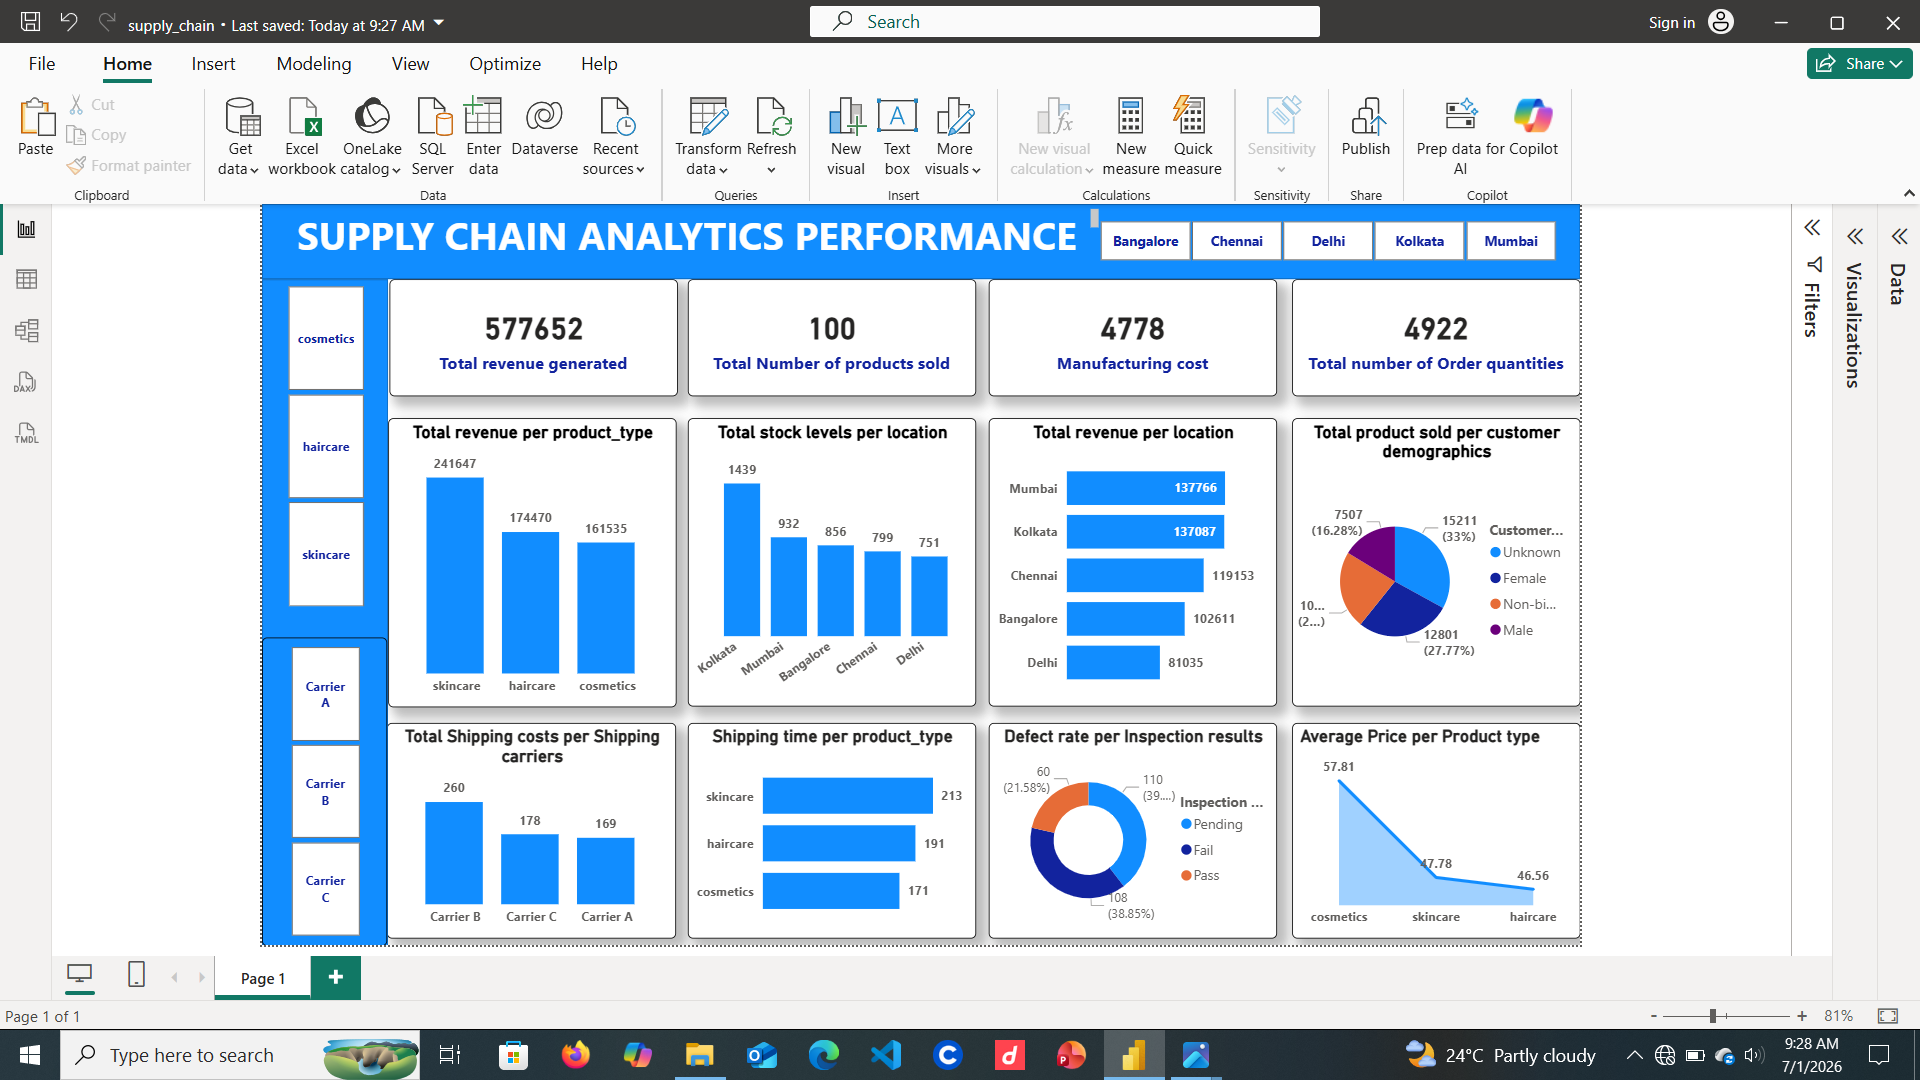

The dashboard page shown, as its layout file describes it:
{"tool":"powerbi","page":{"name":"Page 1","canvas":[1280,720],"ordinal":0},"visuals":[{"type":"columnChart","title":"Total revenue per product_type","fields":{"Category":["supply_chain_data.Product type"],"Y":["Sum(supply_chain_data.Revenue generated)"]},"box":[122.6,208,279.8,281.1],"z":0},{"type":"columnChart","title":"Total stock  levels per location","fields":{"Y":["Sum(supply_chain_data.Stock levels)"],"Category":["supply_chain_data.Location"]},"box":[413.5,208,279.8,279.8],"z":1000},{"type":"clusteredBarChart","title":"Total revenue per location","fields":{"Category":["supply_chain_data.Location"],"Y":["Sum(supply_chain_data.Revenue generated)"]},"box":[705.7,208,279.8,279.8],"z":2000},{"type":"pieChart","title":"Total product sold per  customer demographics","fields":{"Category":["supply_chain_data.Customer demographics"],"Y":["Sum(supply_chain_data.Number of products sold)"]},"box":[1000.4,208,279.8,279.8],"z":3000},{"type":"card","fields":{"Values":["Sum(supply_chain_data.Revenue generated)"]},"box":[123.8,73.1,279.8,113.9],"z":4000},{"type":"card","fields":{"Values":["CountNonNull(supply_chain_data.Number of products sold)"]},"box":[413.5,73.1,279.8,113.9],"z":5000},{"type":"card","fields":{"Values":["Sum(supply_chain_data.Manufacturing costs)"]},"box":[705.7,73.1,279.8,113.9],"z":6000},{"type":"card","fields":{"Values":["Sum(supply_chain_data.Order quantities)"]},"box":[1000.4,73.1,279.8,113.9],"z":7000},{"type":"clusteredColumnChart","title":"Total Shipping costs per Shipping carriers","fields":{"Category":["supply_chain_data.Shipping carriers"],"Y":["Sum(supply_chain_data.Shipping costs)"]},"box":[121.3,503.9,281.1,209.2],"z":8000},{"type":"barChart","title":"  Shipping time per product_type","fields":{"Y":["Sum(supply_chain_data.Shipping times)"],"Category":["supply_chain_data.Product type"]},"box":[413.5,503.9,279.8,209.2],"z":9000},{"type":"donutChart","title":"Defect rate per Inspection results","fields":{"Y":["Sum(supply_chain_data.Defect rates)"],"Category":["supply_chain_data.Inspection results"]},"box":[705.7,503.9,279.8,209.2],"z":10000},{"type":"areaChart","title":"Average Price per Product type","fields":{"Y":["Avg(supply_chain_data.Price)"],"Category":["supply_chain_data.Product type"]},"box":[1000.4,503.9,279.8,209.2],"z":11000},{"type":"shape","box":[0,0,1280.2,73.1],"z":12000},{"type":"shape","box":[0,73.1,122.6,647.5],"z":13000},{"type":"textbox","box":[29.7,0,787.5,52],"z":14000},{"type":"slicer","fields":{"Values":["supply_chain_data.Location"]},"box":[788.7,9.9,491.5,52],"z":15000},{"type":"slicer","fields":{"Values":["supply_chain_data.Product type"]},"box":[0,73.1,122.6,324.4],"z":16000},{"type":"slicer","fields":{"Values":["supply_chain_data.Shipping carriers"]},"box":[0,459.4,121.3,261.2],"z":17000},{"type":"pageNavigator","box":[0,397.4,121.3,61.9],"z":17001}]}

Visuals, with their boxes on the page's 1280x720 design canvas (x1, y1, x2, y2). These are canvas units, not pixel positions in the 1920x1080 screenshot, which may show the page scaled, cropped or inside an application window:
"Total revenue per product_type" columnChart: 123,208,402,489
"Total stock  levels per location" columnChart: 414,208,693,488
"Total revenue per location" clusteredBarChart: 706,208,986,488
"Total product sold per  customer demographics" pieChart: 1000,208,1280,488
card - Sum(supply_chain_data.Revenue generated): 124,73,404,187
card - CountNonNull(supply_chain_data.Number of products sold): 414,73,693,187
card - Sum(supply_chain_data.Manufacturing costs): 706,73,986,187
card - Sum(supply_chain_data.Order quantities): 1000,73,1280,187
"Total Shipping costs per Shipping carriers" clusteredColumnChart: 121,504,402,713
"  Shipping time per product_type" barChart: 414,504,693,713
"Defect rate per Inspection results" donutChart: 706,504,986,713
"Average Price per Product type" areaChart: 1000,504,1280,713
shape: 0,0,1280,73
shape: 0,73,123,721
textbox: 30,0,817,52
slicer - supply_chain_data.Location: 789,10,1280,62
slicer - supply_chain_data.Product type: 0,73,123,398
slicer - supply_chain_data.Shipping carriers: 0,459,121,721
pageNavigator: 0,397,121,459
